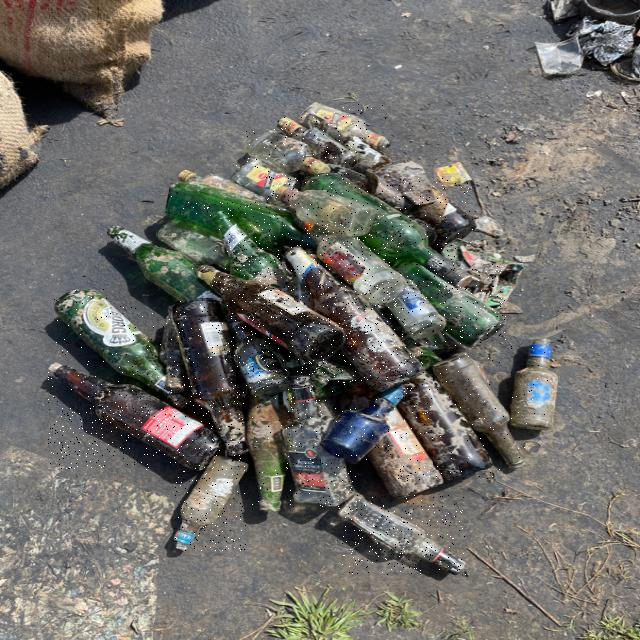glass: (307, 174, 473, 287), (49, 364, 222, 470), (295, 261, 424, 392), (55, 290, 187, 406), (204, 272, 345, 361), (170, 300, 247, 456), (165, 182, 317, 255), (434, 353, 527, 470), (398, 374, 494, 481), (339, 495, 466, 575), (397, 263, 506, 346), (107, 226, 219, 301), (281, 397, 356, 507), (306, 223, 405, 304), (175, 458, 246, 551), (322, 386, 404, 463), (212, 213, 292, 288), (228, 315, 290, 399), (274, 187, 375, 237), (247, 398, 286, 513), (511, 344, 559, 430), (298, 103, 388, 147), (279, 118, 357, 166), (157, 220, 228, 271), (387, 280, 446, 339), (179, 169, 266, 202), (245, 129, 310, 173), (232, 158, 298, 198)
